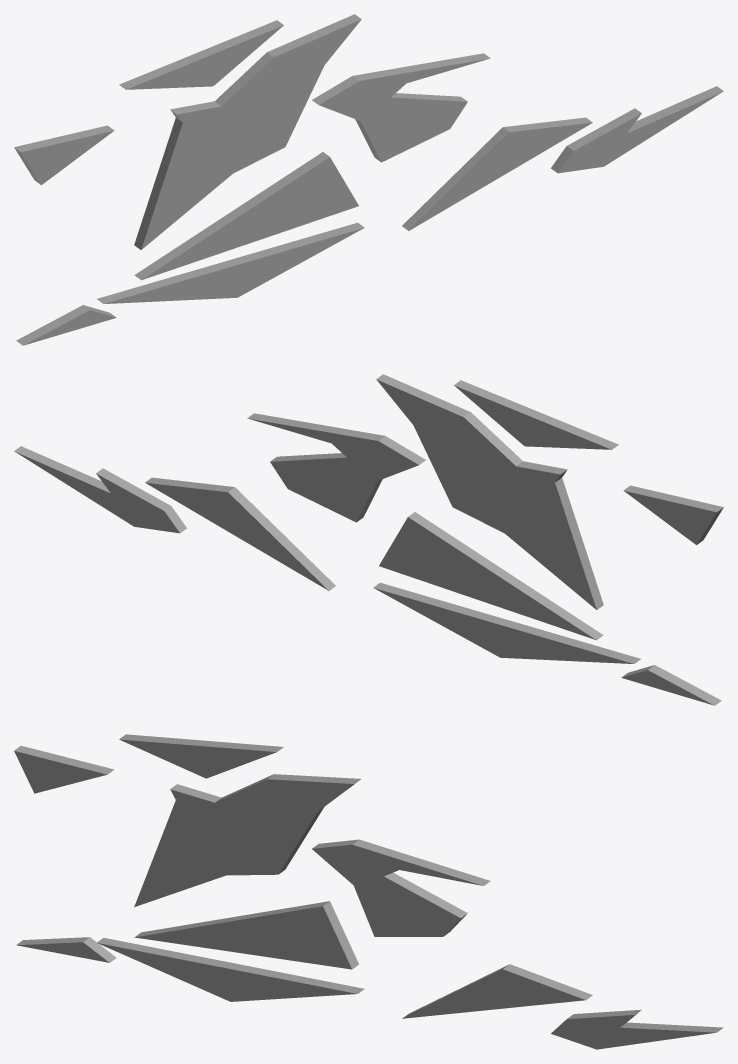
The model's file is Spike_Light.fbx.
3 views of the same model, one above another, from view 1: azimuth 30°, elevation 25°; view 2: azimuth 150°, elevation 25°; view 3: azimuth 330°, elevation 25° (orthographic).
Visible parts, largest first — view 1: Spike03_Light, Spike07_Light, Spike06_Light, Spike05_Light, Spike09_Light, Spike08_Light, Spike02_Light, Spike01_Light, Spike04_Light; view 2: Spike03_Light, Spike07_Light, Spike06_Light, Spike05_Light, Spike09_Light, Spike08_Light, Spike02_Light, Spike01_Light, Spike04_Light; view 3: Spike03_Light, Spike07_Light, Spike06_Light, Spike05_Light, Spike09_Light, Spike08_Light, Spike02_Light, Spike01_Light, Spike04_Light.
Boxes of the visible parts, left/top/right/bottom form: Spike03_Light: left=134, top=14, right=361, bottom=249; Spike07_Light: left=312, top=53, right=490, bottom=162; Spike06_Light: left=134, top=152, right=358, bottom=280; Spike05_Light: left=97, top=222, right=364, bottom=303; Spike09_Light: left=402, top=117, right=592, bottom=230; Spike08_Light: left=551, top=86, right=723, bottom=173; Spike02_Light: left=119, top=20, right=283, bottom=89; Spike01_Light: left=14, top=125, right=114, bottom=184; Spike04_Light: left=16, top=305, right=116, bottom=345; Spike03_Light: left=376, top=374, right=603, bottom=609; Spike07_Light: left=247, top=413, right=425, bottom=522; Spike06_Light: left=379, top=512, right=603, bottom=640; Spike05_Light: left=373, top=582, right=640, bottom=663; Spike09_Light: left=145, top=477, right=335, bottom=590; Spike08_Light: left=14, top=446, right=186, bottom=533; Spike02_Light: left=454, top=380, right=618, bottom=449; Spike01_Light: left=623, top=485, right=723, bottom=544; Spike04_Light: left=621, top=665, right=721, bottom=705; Spike03_Light: left=134, top=774, right=360, bottom=907; Spike07_Light: left=312, top=839, right=490, bottom=936; Spike06_Light: left=134, top=901, right=358, bottom=969; Spike05_Light: left=97, top=937, right=364, bottom=1001; Spike09_Light: left=402, top=964, right=592, bottom=1018; Spike08_Light: left=551, top=1009, right=723, bottom=1049; Spike02_Light: left=119, top=734, right=283, bottom=778; Spike01_Light: left=14, top=745, right=114, bottom=793; Spike04_Light: left=16, top=937, right=116, bottom=962.
Size of the model in its own units: 115 by 40.97 by 2.
